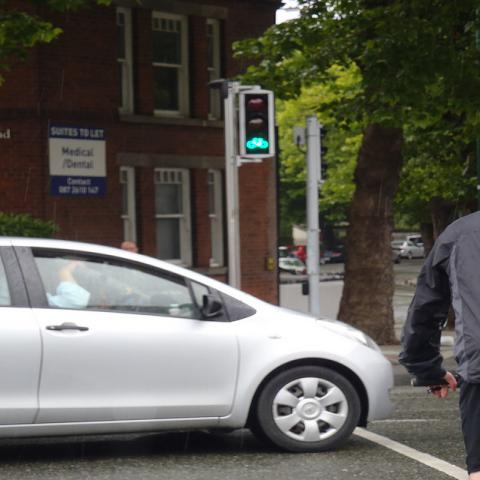car: (2, 236, 404, 446), (279, 257, 308, 295), (391, 241, 426, 260), (405, 234, 425, 246)
